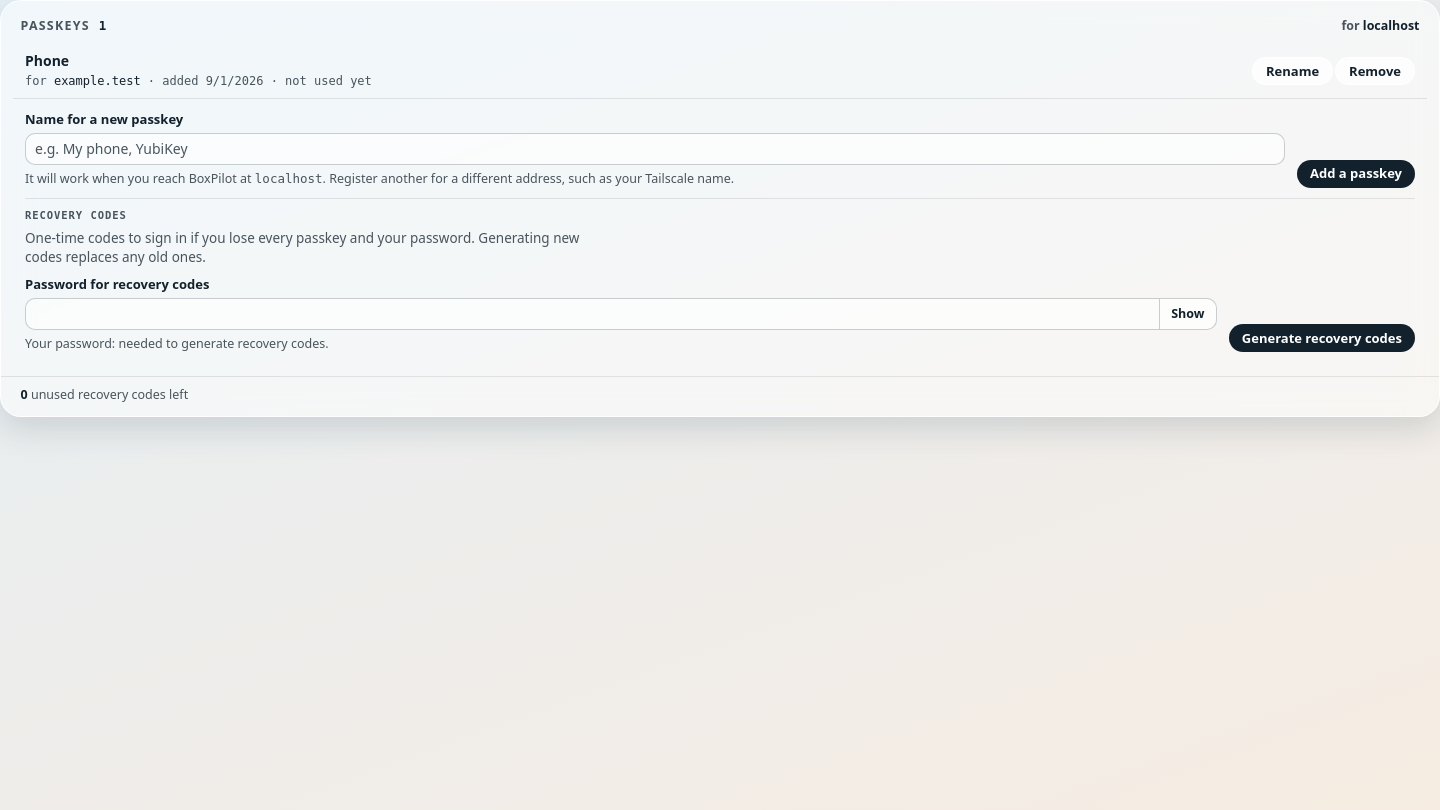
removes a passkey only with the password asked for on its row, and Keep it leaves it
This screenshot has width=1440, height=810.
Click the button with aria-label "Remove Phone" at (1375, 71), box [1335, 57, 1415, 85]
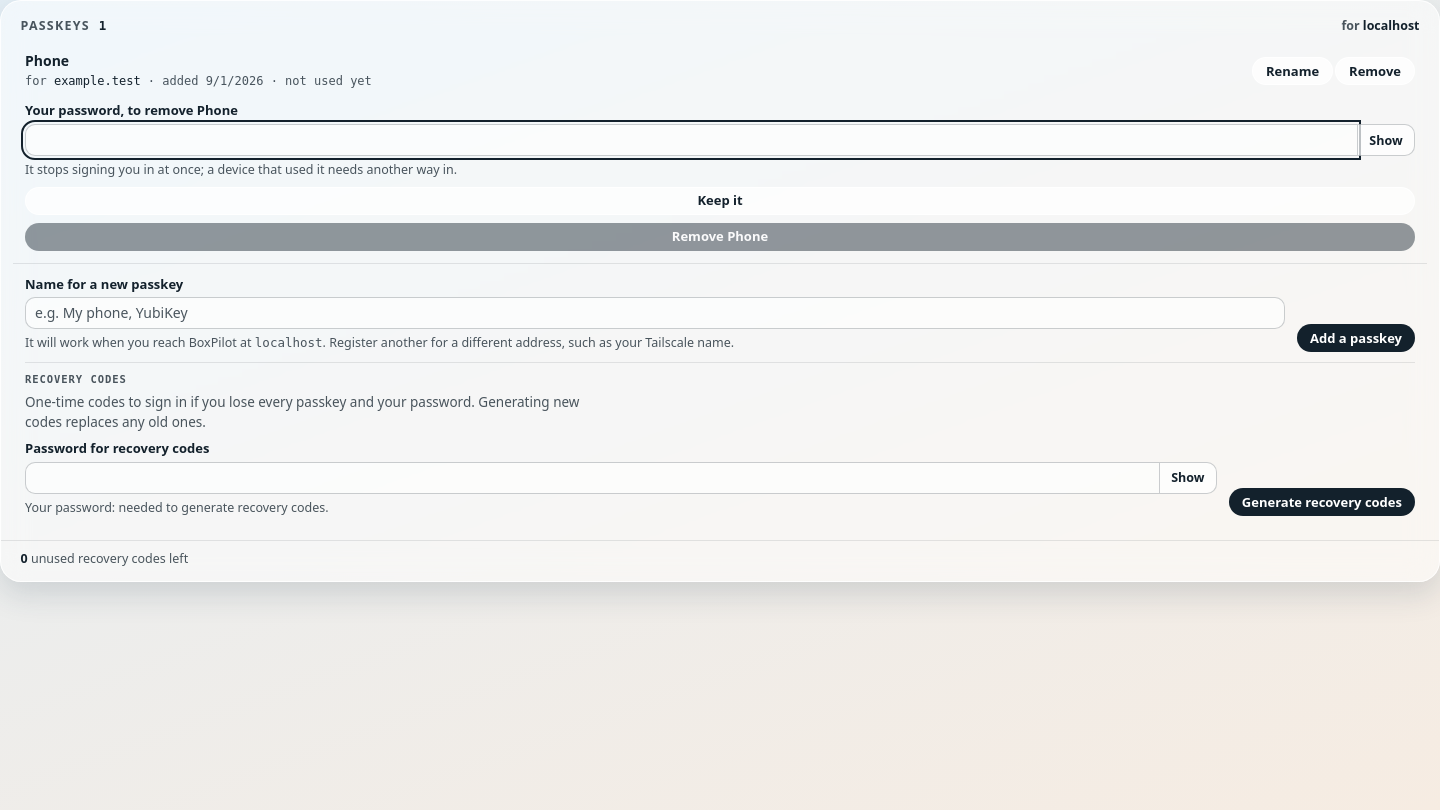
Now the button "Remove Phone" is disabled, box [25, 223, 1415, 251]
Click the button "Keep it" at (720, 201), box [25, 187, 1415, 215]
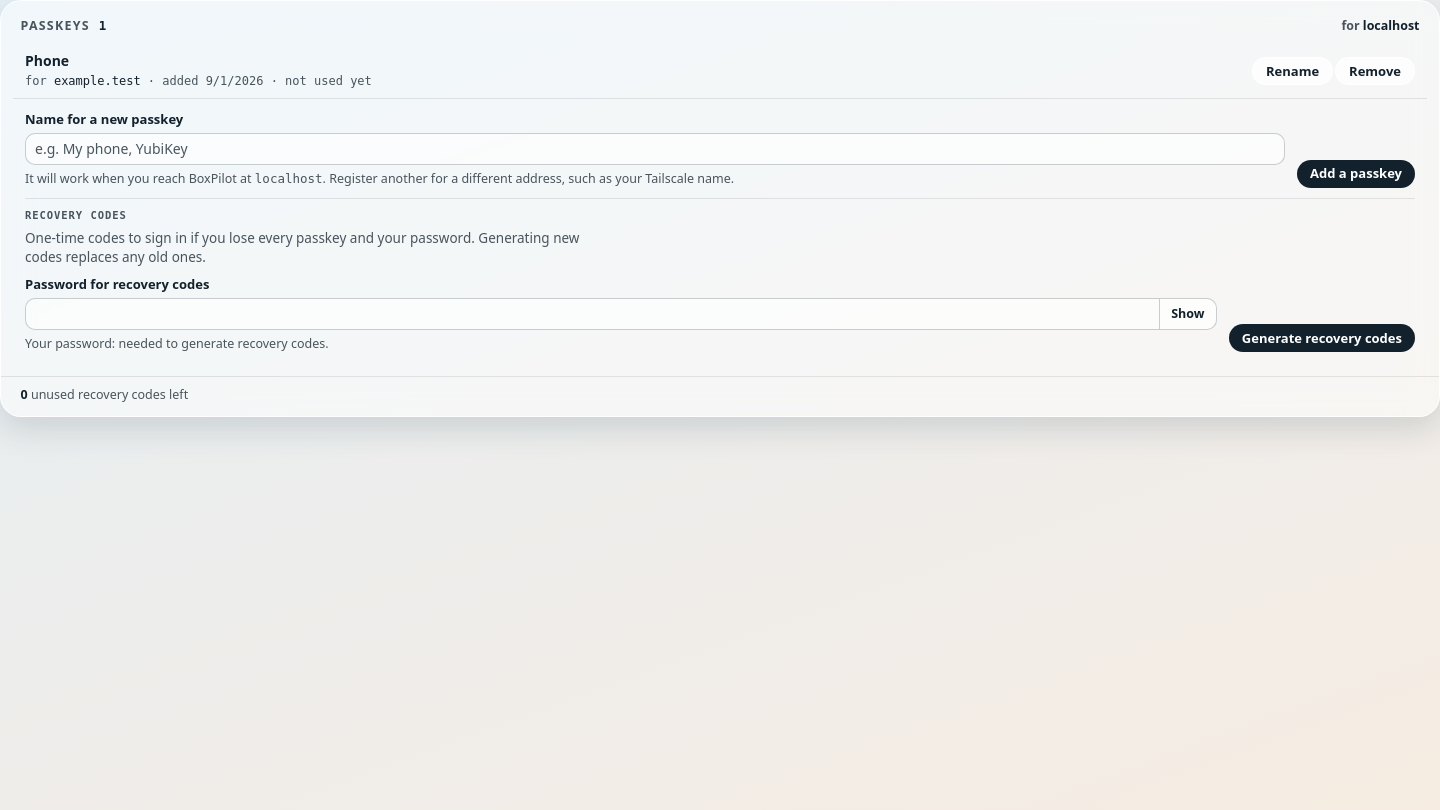
Now the label labelled "Your password, to remove Phone" is gone
Click the button with aria-label "Remove Phone" at (1375, 71), box [1335, 57, 1415, 85]
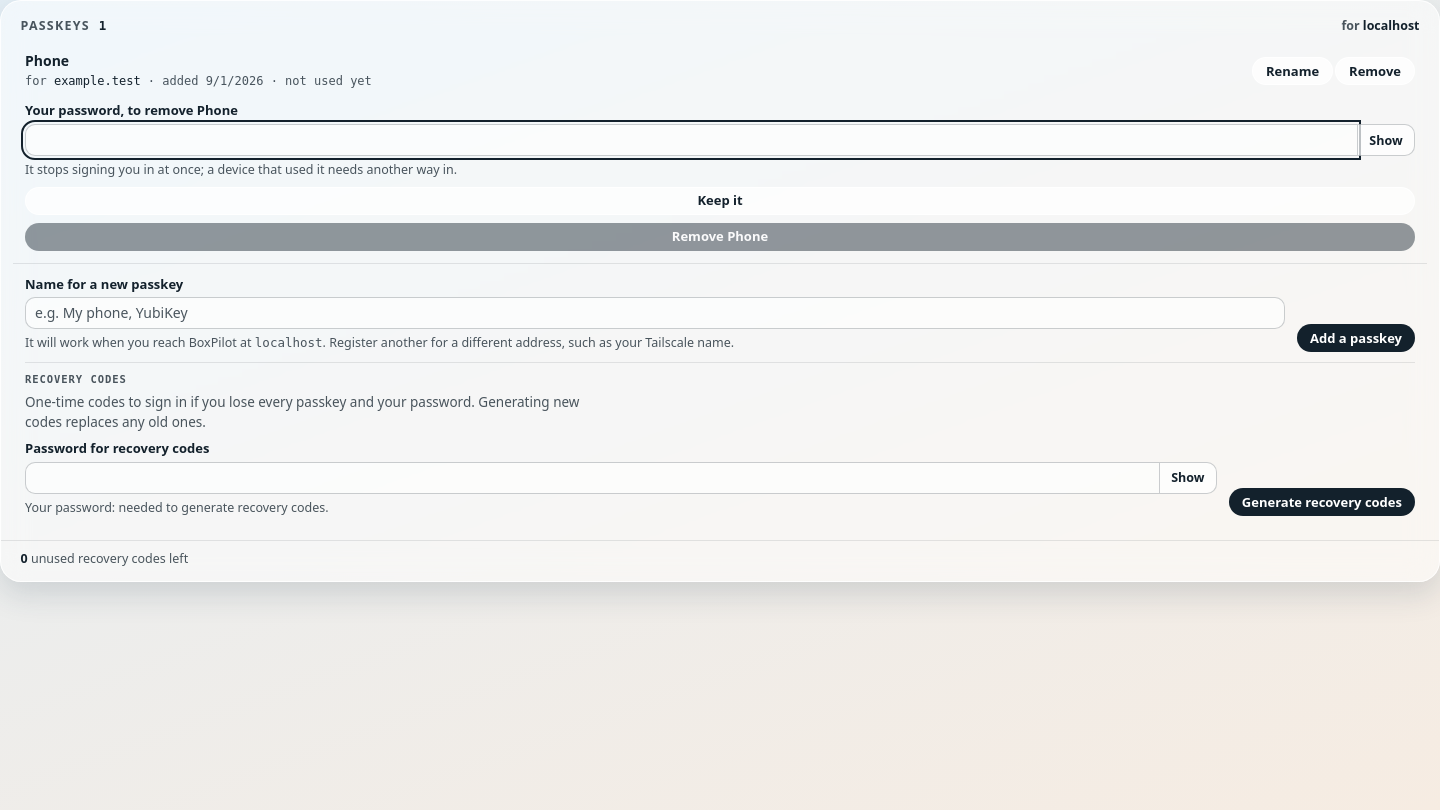
Type "correct horse battery" into the password field labelled "Your password, to remove Phone" at (691, 140), box [25, 124, 1357, 156]
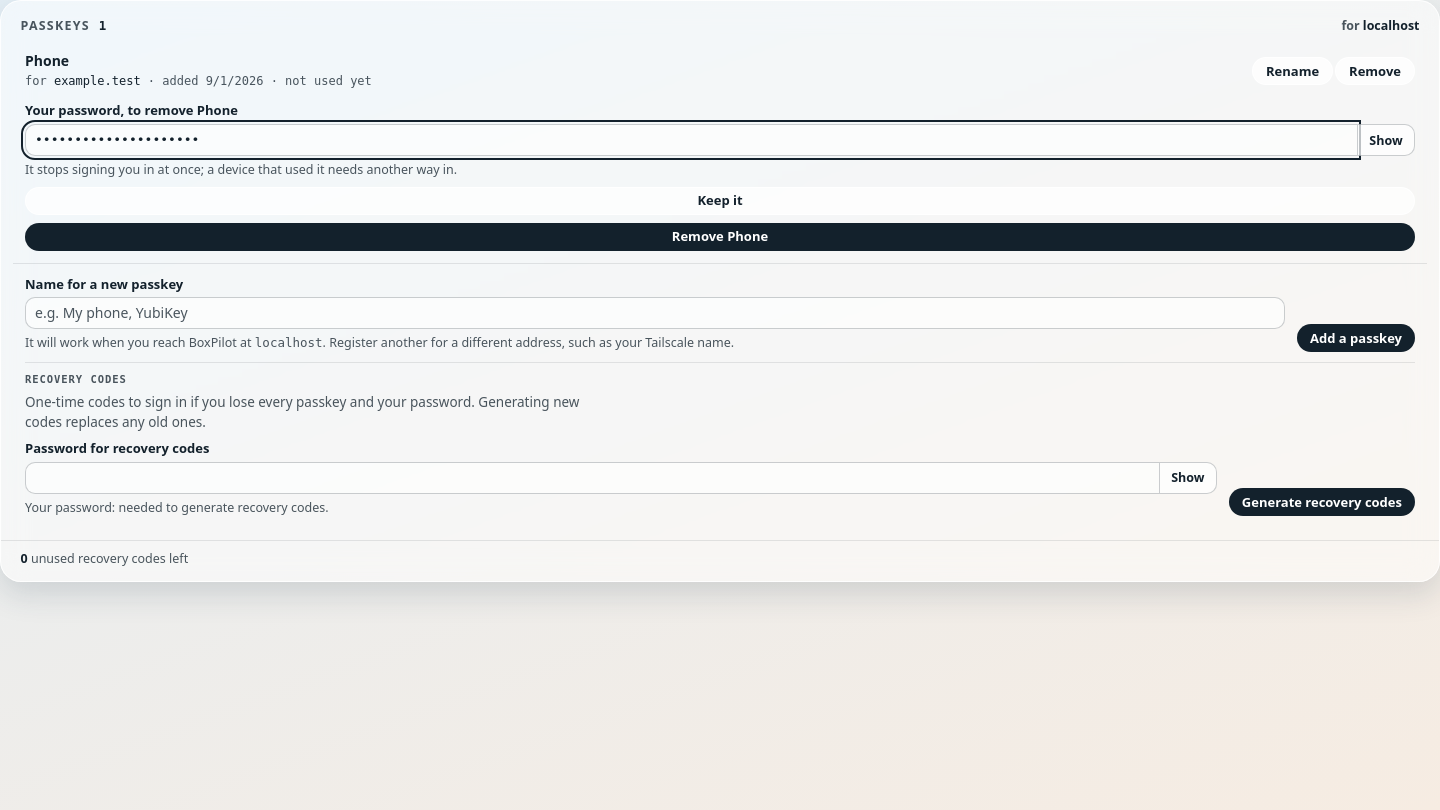
Click the button "Remove Phone" at (720, 237), box [25, 223, 1415, 251]
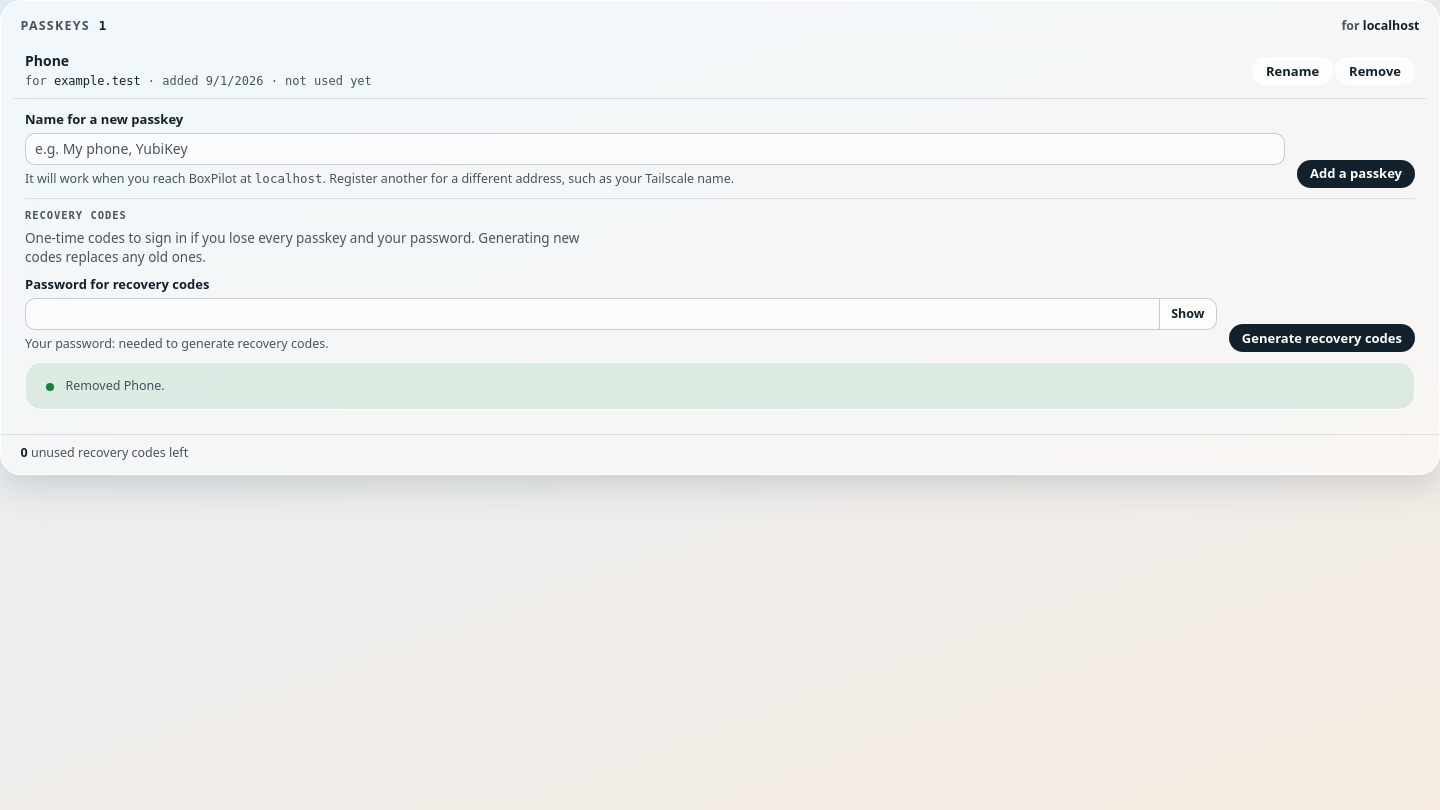
Now the text "Removed Phone." is shown, box [66, 377, 165, 394]
Now the label labelled "Your password, to remove Phone" is gone
